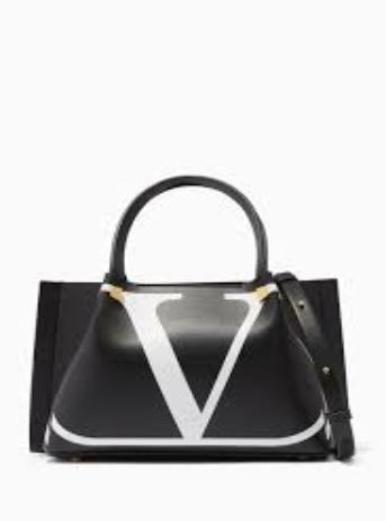VALENTINO: (90, 261, 301, 440)
